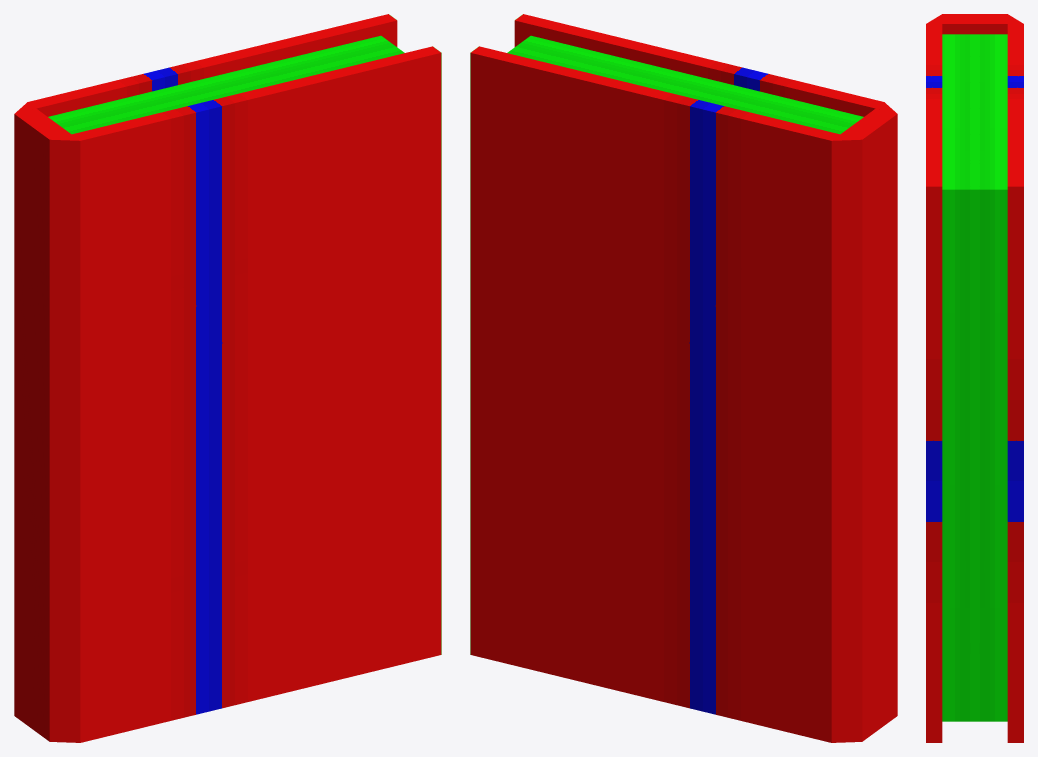
The model's file is Book.fbx.
3 views of the same model, side by side, from view 1: azimuth 30°, elevation 25°; view 2: azimuth 150°, elevation 25°; view 3: azimuth 270°, elevation 25° (orthographic). The views are drawn at different scales.
Parts seen in each view (by area): view 1: Book; view 2: Book; view 3: Book.
Boxes of the visible parts, bbox=[...] form: Book: bbox=[14, 14, 441, 742]; Book: bbox=[470, 14, 897, 742]; Book: bbox=[926, 14, 1023, 742].
Bounding box in the file's own units: 15.92 × 3.81 × 23.91.
